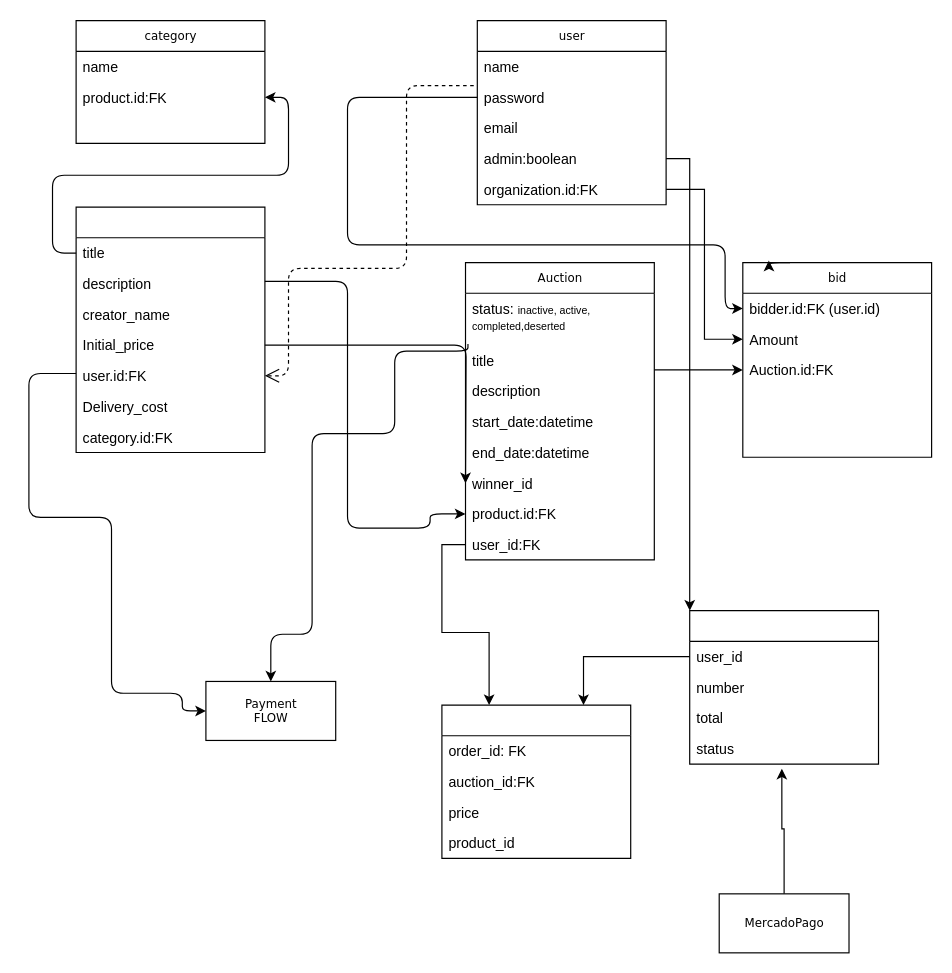
Image size: 952x973. Some labels were removed from this diagram. The shapes that lost their labels are listed below. From the top down, each one's box as (x1, y1, x2, y2) in pixels, then its label:
(75, 206, 265, 453): product
(689, 609, 879, 764): Order
(441, 704, 631, 858): order_auctions(items)
